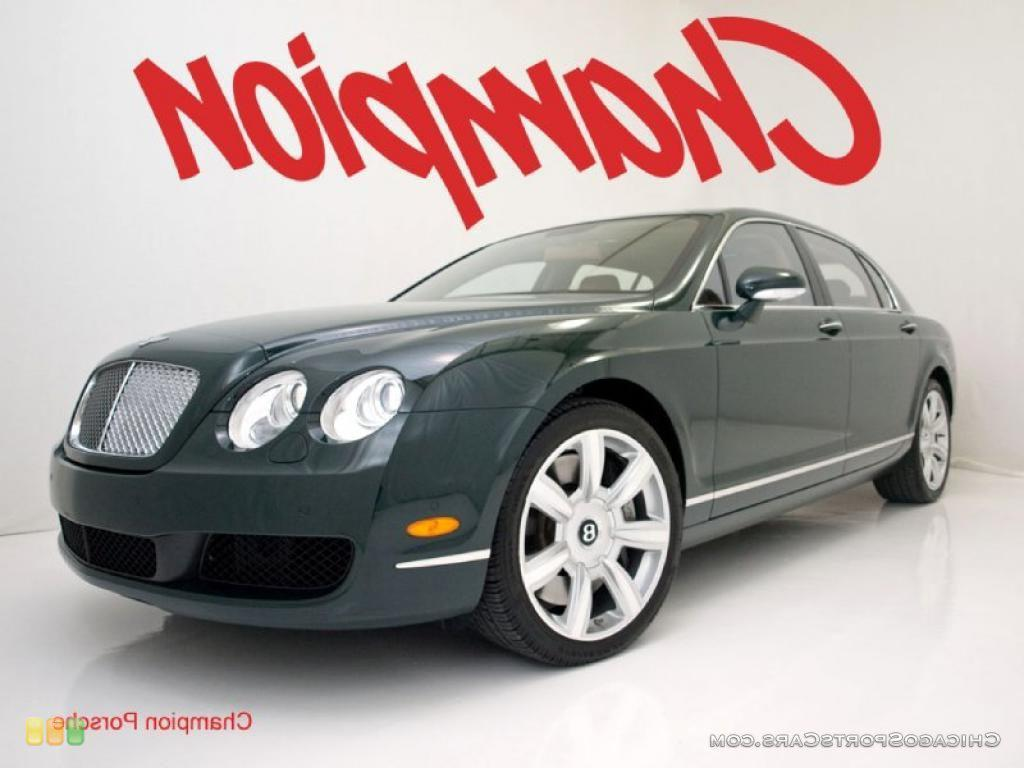Car: (35, 174, 974, 684)
